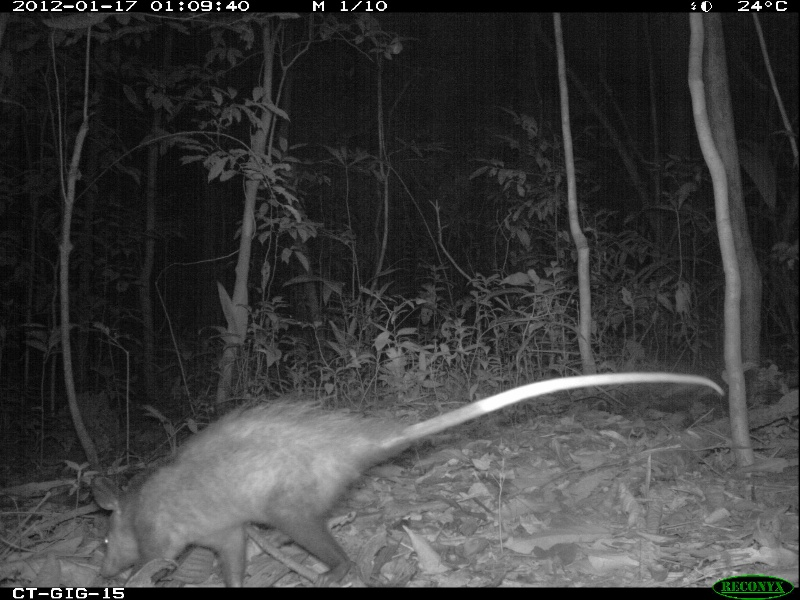opossum: (95, 352, 734, 587)
